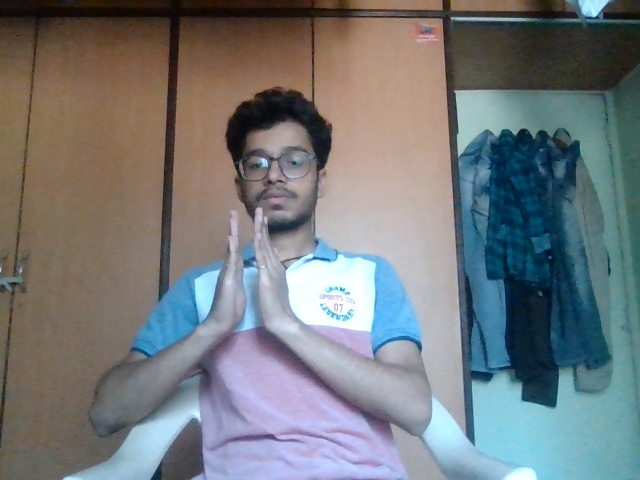morning: (194, 200, 318, 352)
